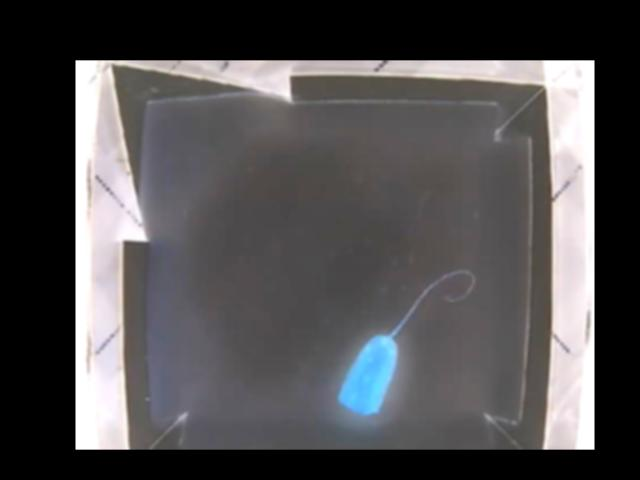Carrot: (339, 336, 395, 409)
